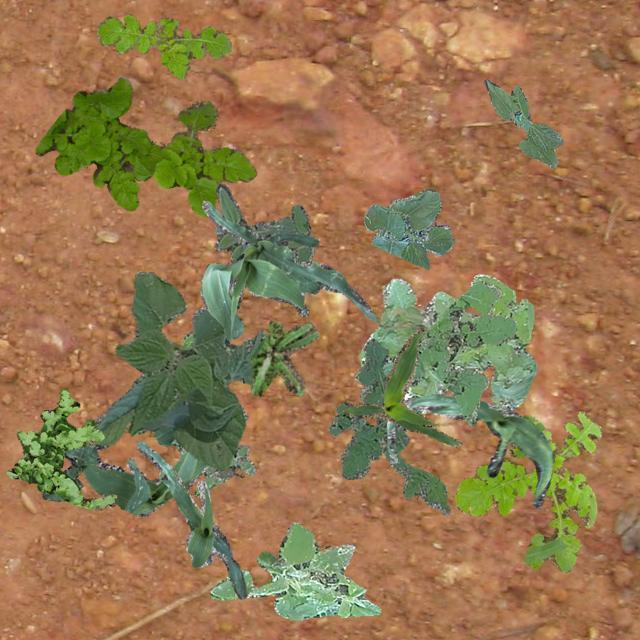crop: (88, 270, 264, 470), (200, 200, 378, 340), (386, 392, 552, 508), (135, 441, 245, 598), (342, 326, 461, 446), (81, 414, 208, 516), (482, 78, 562, 168), (363, 188, 452, 268), (42, 444, 96, 501)
weed: (34, 76, 256, 216), (358, 272, 536, 416), (454, 409, 602, 572), (328, 338, 448, 514), (382, 280, 516, 424), (210, 522, 380, 618), (170, 330, 254, 496), (5, 388, 116, 508), (96, 12, 232, 78), (214, 182, 314, 262), (250, 320, 318, 396)
